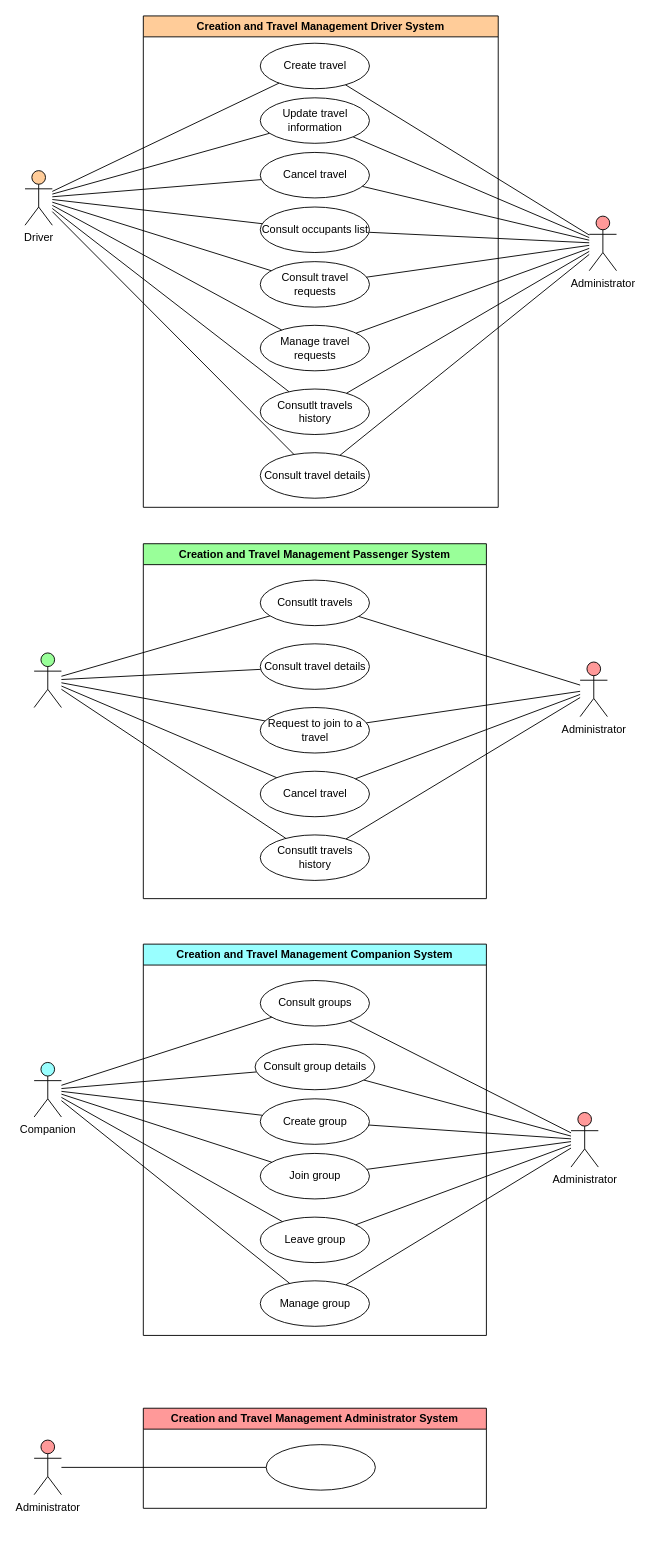
This 651x1543 diagram has some shape labels left out. Here are the shapes that lost their labels. From the top down, the centre of each, then its label:
At (x=47, y=680): "Passenger".
At (x=320, y=1467): "Monitor active travels".
